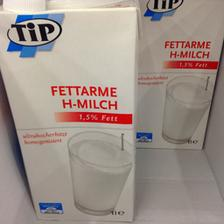Milch: (0, 0, 135, 224), (137, 0, 222, 156)
